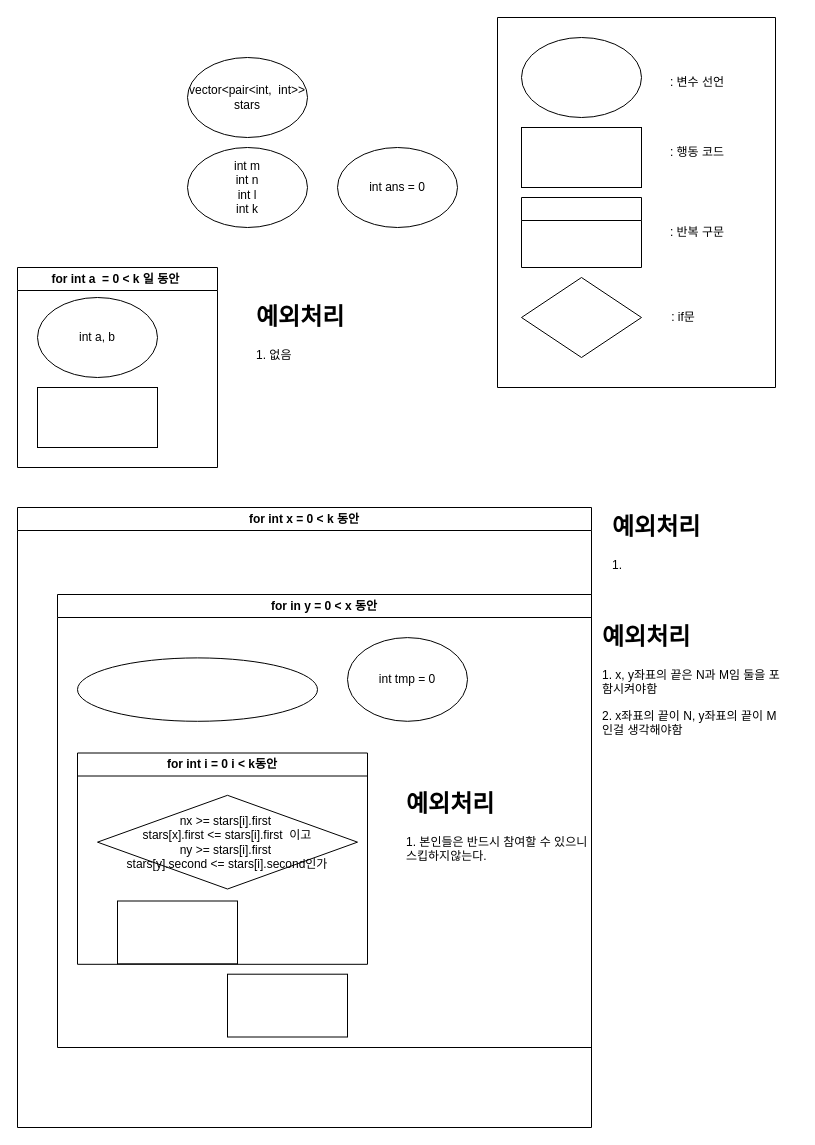
The diagram is 815 pixels wide and 1145 high, and some of its shapes have lost their labels. Here are the shapes that lost their labels. From the top down, the centre of each, then its label:
At (581,232): "~ 동안".
At (97,417): "stars.pusb_back({a, b})".
At (197,689): "int nx = min(starts[x].first + l, N) int ny = min(stars[y].second + l, M)".
At (177,932): "tmp++".
At (287,1005): "ans = max(ans, tmp)".
